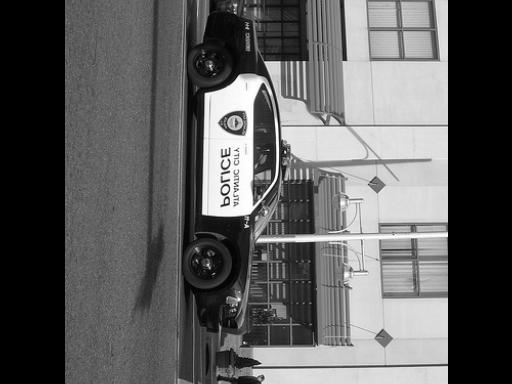Cheetah: (149, 6, 319, 330)
